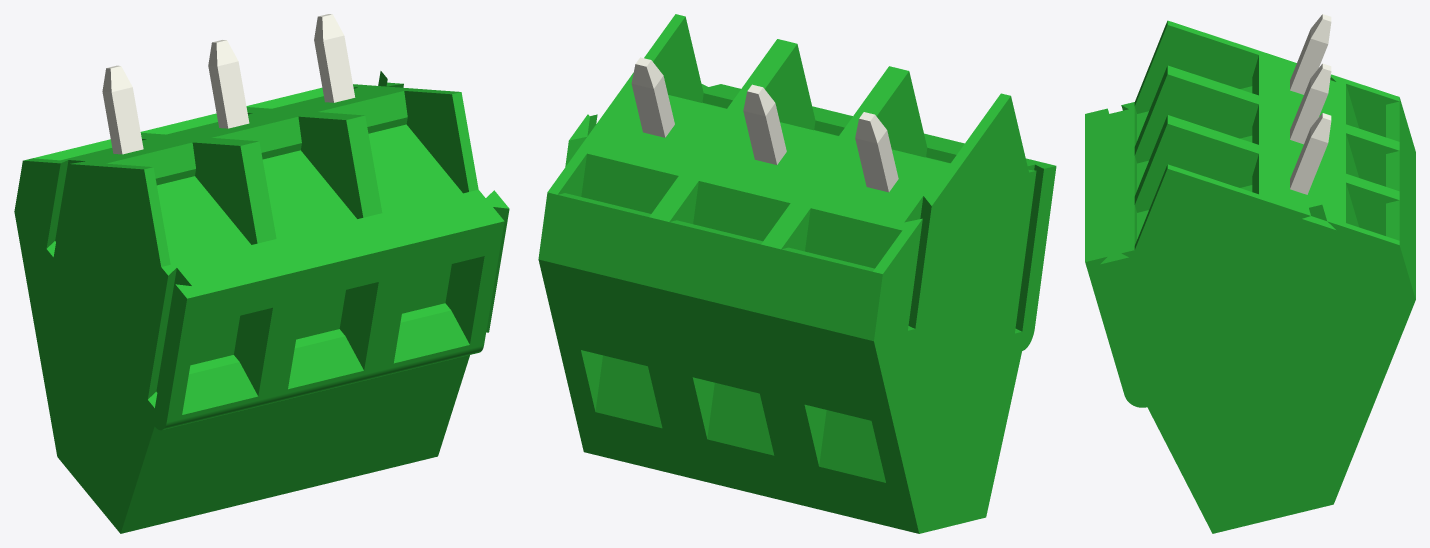
Rendered from EBoxNewAsm_stp_1_UTeensyBreakout_1_stp_1_EK500A_03P_stp_13_solid1.obj.
3 renders of one model, left to right at view 1: azimuth 30°, elevation 25°; view 2: azimuth 150°, elevation 25°; view 3: azimuth 270°, elevation 25°, orthographic. The views are drawn at different scales.
Visible parts, largest first — view 1: mesh8407, mesh8344, mesh8475, mesh8402, mesh8431, mesh8385, mesh8399, mesh8391, mesh8388, mesh8381, mesh8395, mesh8478 (+27 smaller); view 2: mesh8459, mesh8407, mesh8431, mesh8412, mesh8429, mesh8417, mesh8424, mesh8460, mesh8465, mesh8470, mesh8388, mesh8381 (+13 smaller); view 3: mesh8366, mesh8431, mesh8402, mesh8393, mesh8400, mesh8386, mesh8376, mesh8369, mesh8412, mesh8416, mesh8422, mesh8428 (+6 smaller).
Part boxes in pixels (x1=…): mesh8407: x1=14, y1=160, x2=186, y2=533; mesh8344: x1=120, y1=355, x2=469, y2=533; mesh8475: x1=166, y1=221, x2=504, y2=422; mesh8402: x1=161, y1=189, x2=508, y2=298; mesh8431: x1=24, y1=84, x2=460, y2=169; mesh8385: x1=368, y1=124, x2=462, y2=212; mesh8399: x1=157, y1=176, x2=250, y2=264; mesh8391: x1=263, y1=150, x2=356, y2=238; mesh8388: x1=298, y1=116, x2=363, y2=218; mesh8381: x1=404, y1=91, x2=468, y2=193; mesh8395: x1=192, y1=142, x2=257, y2=244; mesh8478: x1=394, y1=310, x2=469, y2=363; mesh8459: x1=538, y1=259, x2=918, y2=533; mesh8407: x1=874, y1=96, x2=1056, y2=533; mesh8431: x1=548, y1=14, x2=1010, y2=273; mesh8412: x1=538, y1=192, x2=882, y2=341; mesh8429: x1=693, y1=181, x2=790, y2=241; mesh8417: x1=805, y1=208, x2=902, y2=268; mesh8424: x1=581, y1=153, x2=678, y2=213; mesh8460: x1=595, y1=355, x2=662, y2=428; mesh8465: x1=707, y1=382, x2=774, y2=455; mesh8470: x1=819, y1=410, x2=885, y2=482; mesh8388: x1=765, y1=44, x2=815, y2=130; mesh8381: x1=653, y1=17, x2=703, y2=102; mesh8366: x1=1085, y1=168, x2=1415, y2=533; mesh8431: x1=1167, y1=20, x2=1399, y2=244; mesh8402: x1=1085, y1=102, x2=1134, y2=264; mesh8393: x1=1135, y1=74, x2=1258, y2=163; mesh8400: x1=1135, y1=25, x2=1258, y2=113; mesh8386: x1=1135, y1=123, x2=1258, y2=212; mesh8376: x1=1100, y1=257, x2=1168, y2=397; mesh8369: x1=1302, y1=219, x2=1361, y2=323; mesh8412: x1=1399, y1=98, x2=1415, y2=299; mesh8416: x1=1346, y1=84, x2=1398, y2=137; mesh8422: x1=1346, y1=182, x2=1398, y2=235; mesh8428: x1=1346, y1=133, x2=1399, y2=186.
Bounding box in the file's own units: 0.0156 × 0.0186 × 0.0141.
